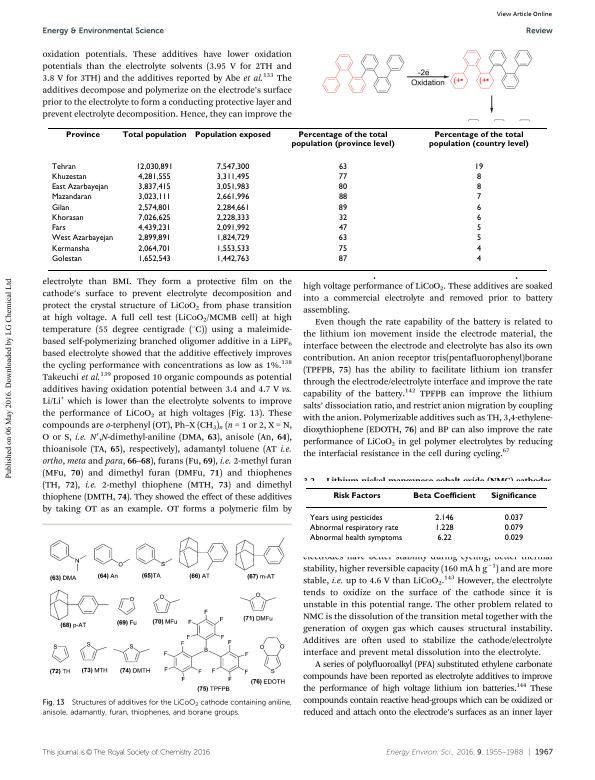borderless: (47, 126, 547, 270), (304, 486, 548, 551)
cell: (290, 131, 395, 149), (428, 131, 529, 149), (309, 533, 403, 543), (309, 523, 399, 533), (194, 131, 271, 140), (309, 513, 383, 522), (121, 131, 187, 140), (412, 491, 476, 500), (50, 234, 114, 243), (50, 183, 109, 192), (332, 491, 381, 500), (490, 491, 537, 500), (50, 244, 90, 254), (135, 162, 173, 172), (50, 193, 92, 202), (50, 172, 87, 182), (215, 162, 250, 172), (215, 172, 250, 182), (215, 203, 250, 213), (215, 213, 250, 223), (215, 244, 250, 254), (215, 254, 250, 264), (137, 172, 171, 182), (137, 203, 171, 213), (50, 213, 84, 223), (137, 213, 171, 223), (137, 244, 171, 254), (137, 254, 171, 264), (50, 254, 82, 264), (65, 131, 100, 140), (215, 183, 250, 192), (215, 193, 250, 202), (215, 224, 250, 233), (215, 234, 250, 243), (137, 183, 171, 192), (137, 193, 171, 202), (137, 224, 171, 233), (137, 234, 171, 243), (50, 162, 76, 172), (503, 523, 524, 533), (503, 533, 524, 543), (434, 523, 454, 533), (50, 203, 70, 213), (503, 513, 524, 522), (434, 513, 454, 522), (436, 533, 452, 543), (50, 224, 66, 233), (337, 162, 348, 172), (473, 162, 484, 172), (337, 172, 348, 182), (337, 203, 348, 213), (337, 213, 348, 223), (337, 244, 348, 254), (337, 254, 348, 264), (337, 183, 348, 192), (337, 193, 348, 202), (337, 224, 348, 233), (337, 234, 348, 243), (475, 213, 482, 223), (475, 254, 482, 264), (475, 183, 482, 192), (475, 193, 482, 202), (475, 224, 482, 233), (475, 234, 482, 243), (475, 172, 481, 182), (475, 203, 481, 213), (475, 244, 481, 254)
